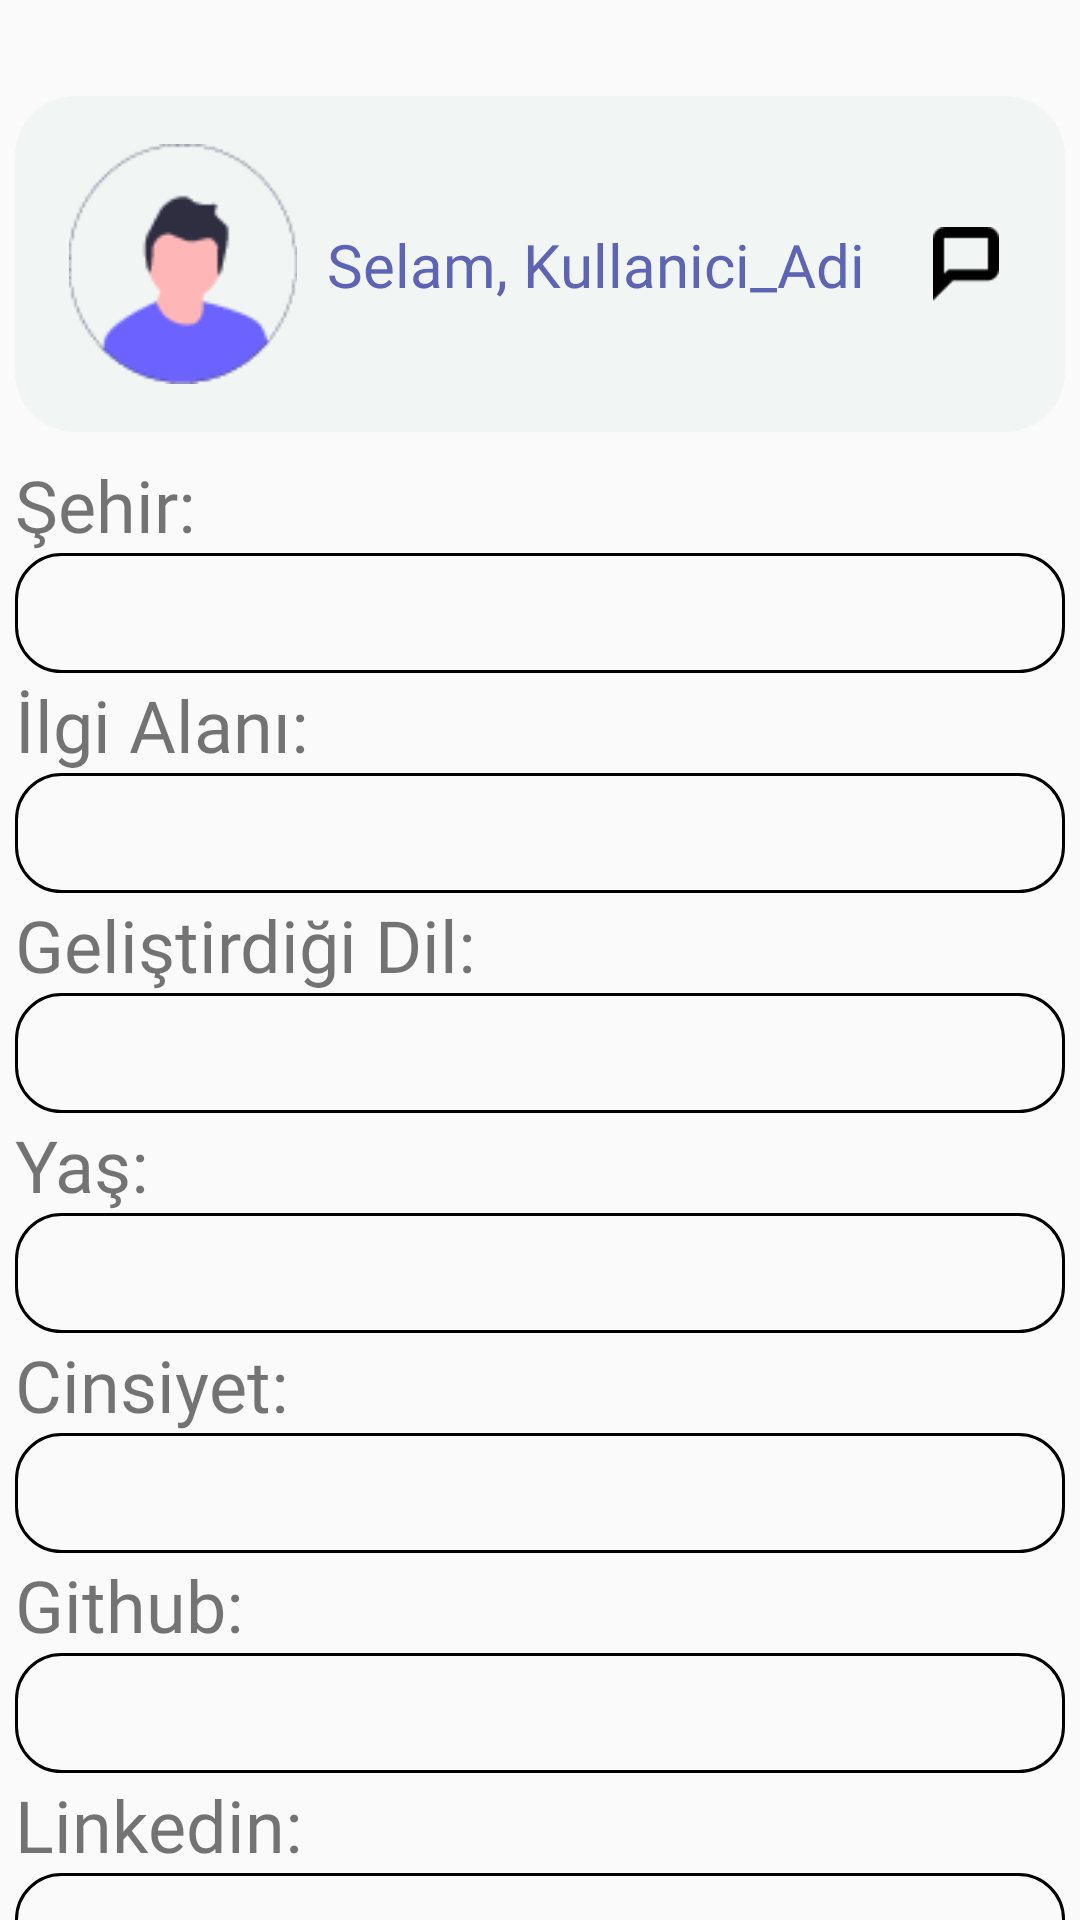

Where to tap for icons on this 1080×1920 app screen, as point (x, y):
mesaj: point (966, 264)
profile pic: point (183, 264)
